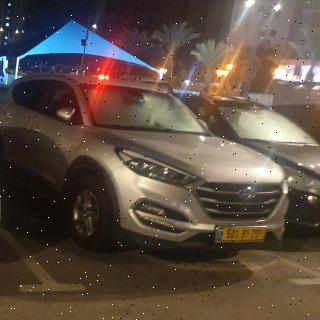LicensePlate: (223, 228, 266, 239)
